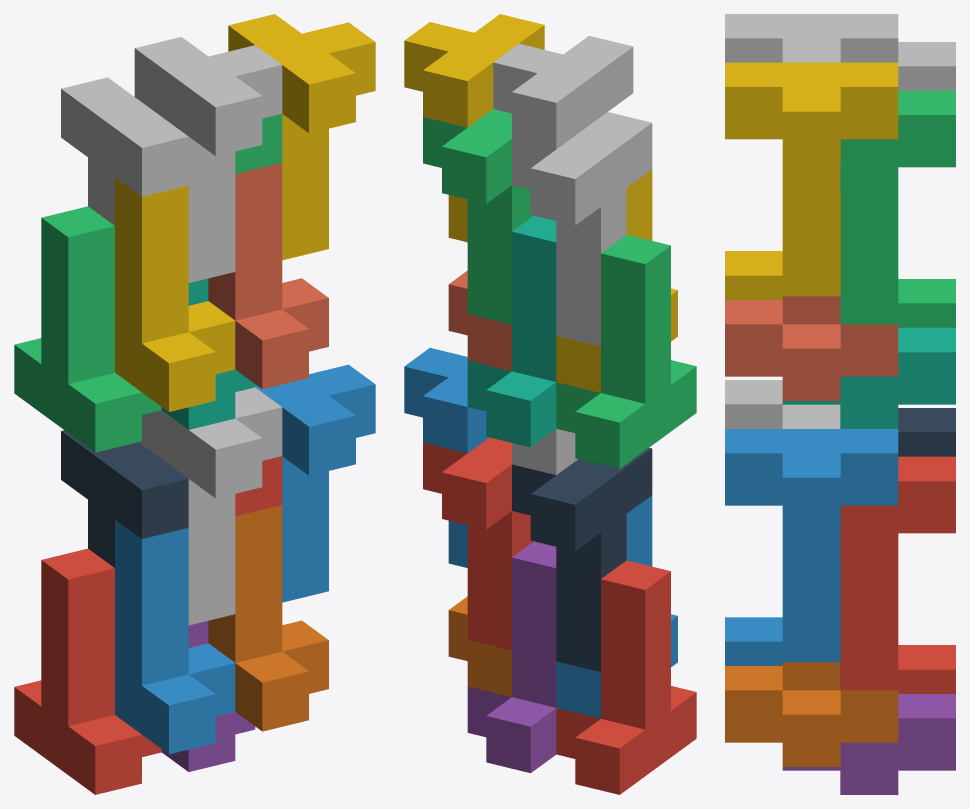
The model's file is tiling.obj.
The picture shows the model from 3 angles, left to right: view 1: azimuth 30°, elevation 25°; view 2: azimuth 150°, elevation 25°; view 3: azimuth 270°, elevation 25°; orthographic projection. The views are drawn at different scales.
Parts seen in each view (by area): view 1: copy_1_domain_3, copy_1_domain_1, copy_1_domain_4, copy_1_domain_2, copy_2_domain_4, copy_2_domain_8, copy_2_domain_2, copy_1_domain_6, copy_1_domain_8, copy_2_domain_6, copy_2_domain_3, copy_2_domain_1 (+4 smaller); view 2: copy_1_domain_1, copy_1_domain_3, copy_2_domain_3, copy_2_domain_1, copy_1_domain_5, copy_1_domain_7, copy_2_domain_7, copy_2_domain_5, copy_2_domain_4, copy_2_domain_8, copy_2_domain_6, copy_1_domain_2 (+4 smaller); view 3: copy_2_domain_8, copy_2_domain_6, copy_2_domain_7, copy_2_domain_5, copy_1_domain_6, copy_1_domain_8, copy_2_domain_4, copy_1_domain_7, copy_1_domain_5, copy_2_domain_2, copy_1_domain_1, copy_1_domain_2 (+4 smaller).
Part boxes in pixels (x1,y1,x2,y2): copy_1_domain_3: [14, 206, 161, 452]; copy_1_domain_1: [14, 548, 161, 794]; copy_1_domain_4: [115, 177, 235, 411]; copy_1_domain_2: [115, 519, 235, 754]; copy_2_domain_4: [134, 37, 282, 282]; copy_2_domain_8: [228, 14, 375, 260]; copy_2_domain_2: [139, 387, 282, 625]; copy_1_domain_6: [208, 505, 328, 731]; copy_1_domain_8: [208, 163, 328, 389]; copy_2_domain_6: [255, 364, 375, 602]; copy_2_domain_3: [61, 77, 188, 225]; copy_2_domain_1: [61, 430, 188, 567]; copy_1_domain_1: [556, 560, 696, 794]; copy_1_domain_3: [556, 234, 696, 468]; copy_2_domain_3: [512, 112, 652, 346]; copy_2_domain_1: [512, 448, 652, 672]; copy_1_domain_5: [467, 541, 556, 773]; copy_1_domain_7: [467, 215, 556, 447]; copy_2_domain_7: [423, 109, 533, 324]; copy_2_domain_5: [423, 437, 533, 650]; copy_2_domain_4: [493, 35, 633, 149]; copy_2_domain_8: [404, 14, 544, 242]; copy_2_domain_6: [404, 348, 488, 567]; copy_1_domain_2: [556, 495, 677, 718]; copy_2_domain_8: [725, 62, 898, 296]; copy_2_domain_6: [725, 429, 898, 662]; copy_2_domain_7: [840, 90, 955, 324]; copy_2_domain_5: [840, 456, 955, 690]; copy_1_domain_6: [725, 662, 898, 766]; copy_1_domain_8: [725, 296, 898, 400]; copy_2_domain_4: [725, 14, 898, 62]; copy_1_domain_7: [782, 327, 955, 428]; copy_1_domain_5: [782, 694, 955, 794]; copy_2_domain_2: [725, 380, 840, 428]; copy_1_domain_1: [898, 645, 955, 693]; copy_1_domain_2: [725, 617, 782, 665].
Size of the model in its own units: 6 by 14 by 4.
